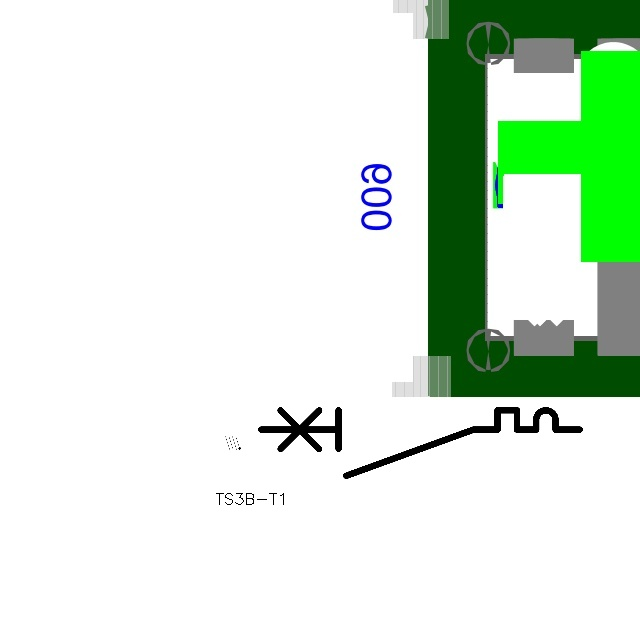interruptor_termomagnetico: (252, 402, 588, 484)
